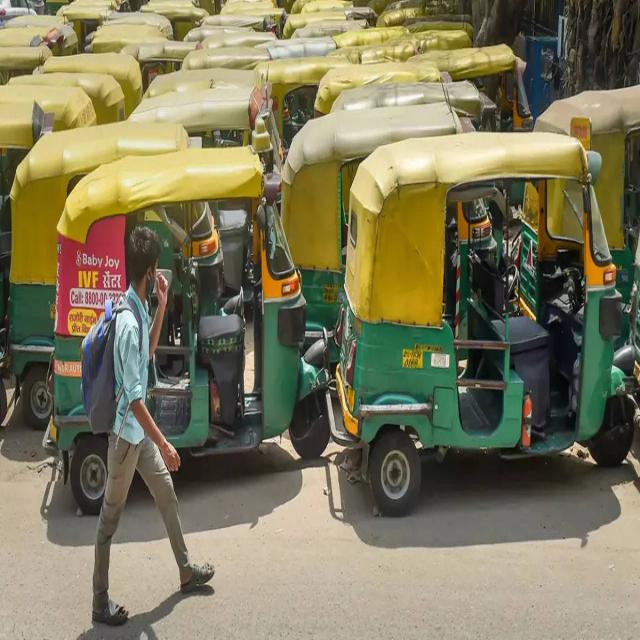autorikshaw: (338, 128, 633, 518), (51, 143, 331, 506)
